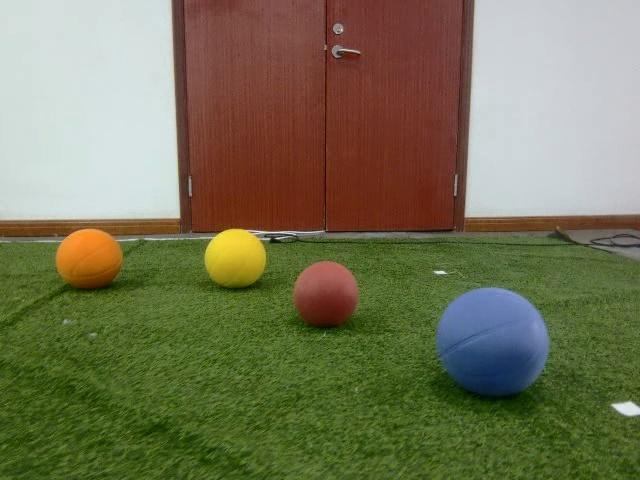blue_ball: (434, 289, 551, 400)
orange_ball: (56, 230, 123, 290)
red_ball: (294, 262, 359, 327)
yellow_ball: (205, 230, 267, 288)
